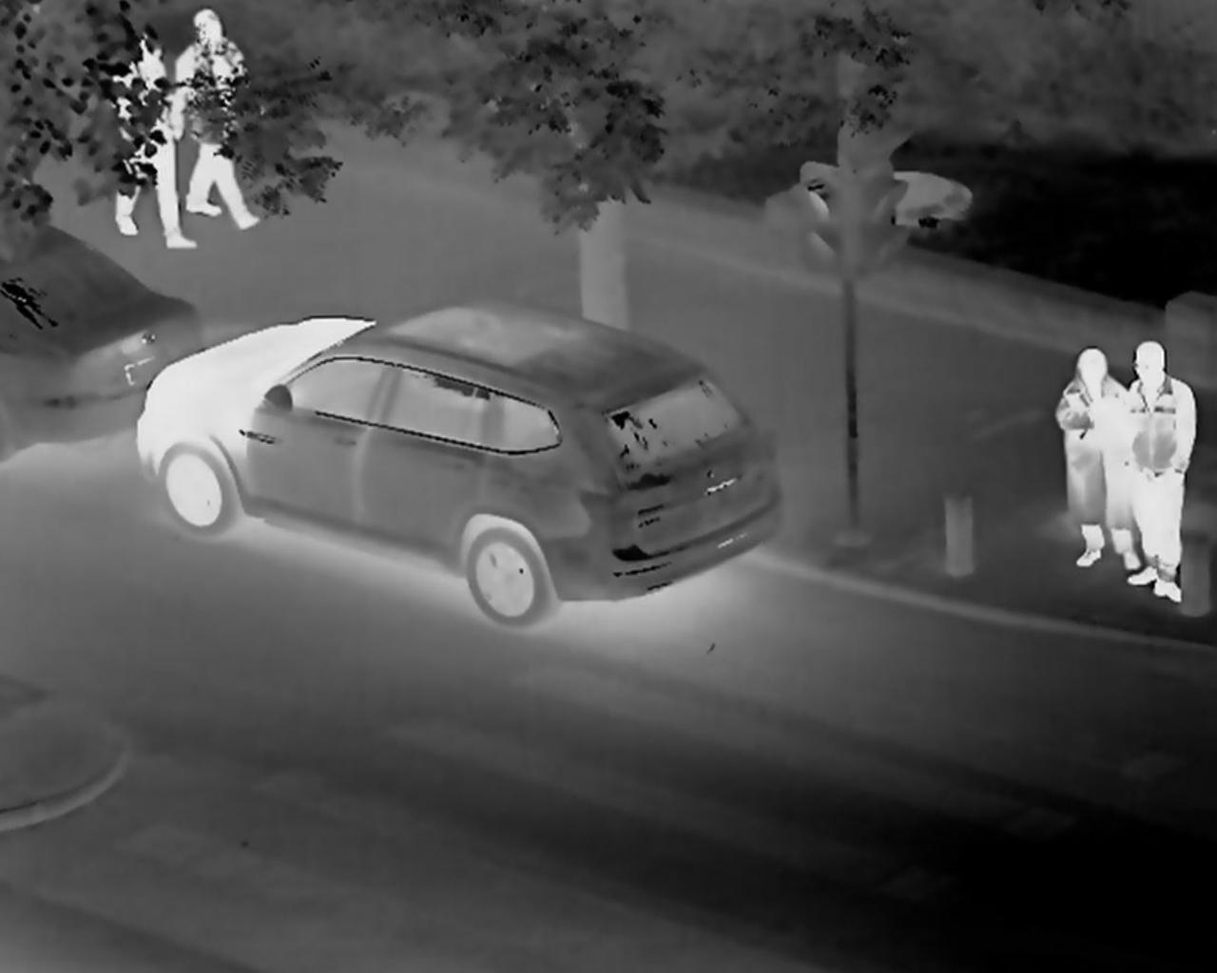person: (1114, 353, 1217, 599), (105, 25, 177, 269), (179, 19, 261, 227), (1046, 342, 1115, 558)
